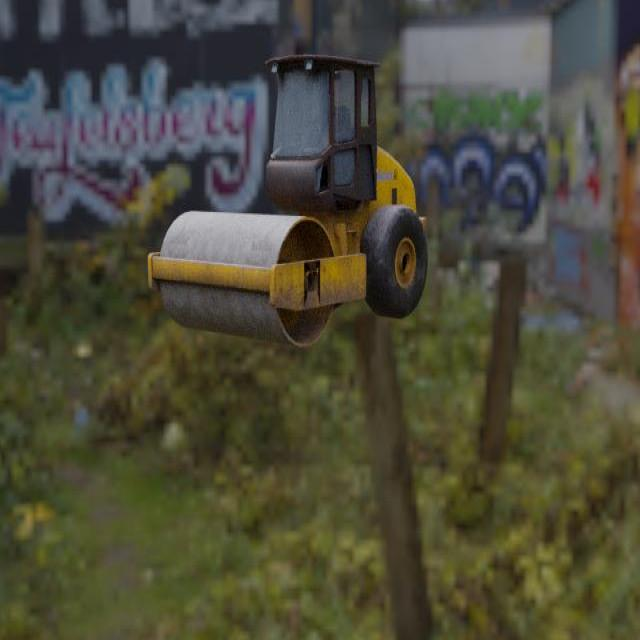Roller: (147, 53, 428, 347)
